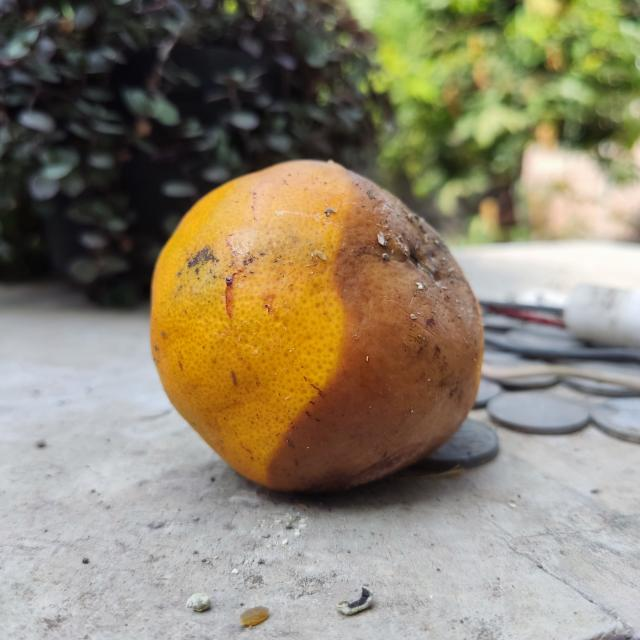orange: (147, 159, 484, 500)
